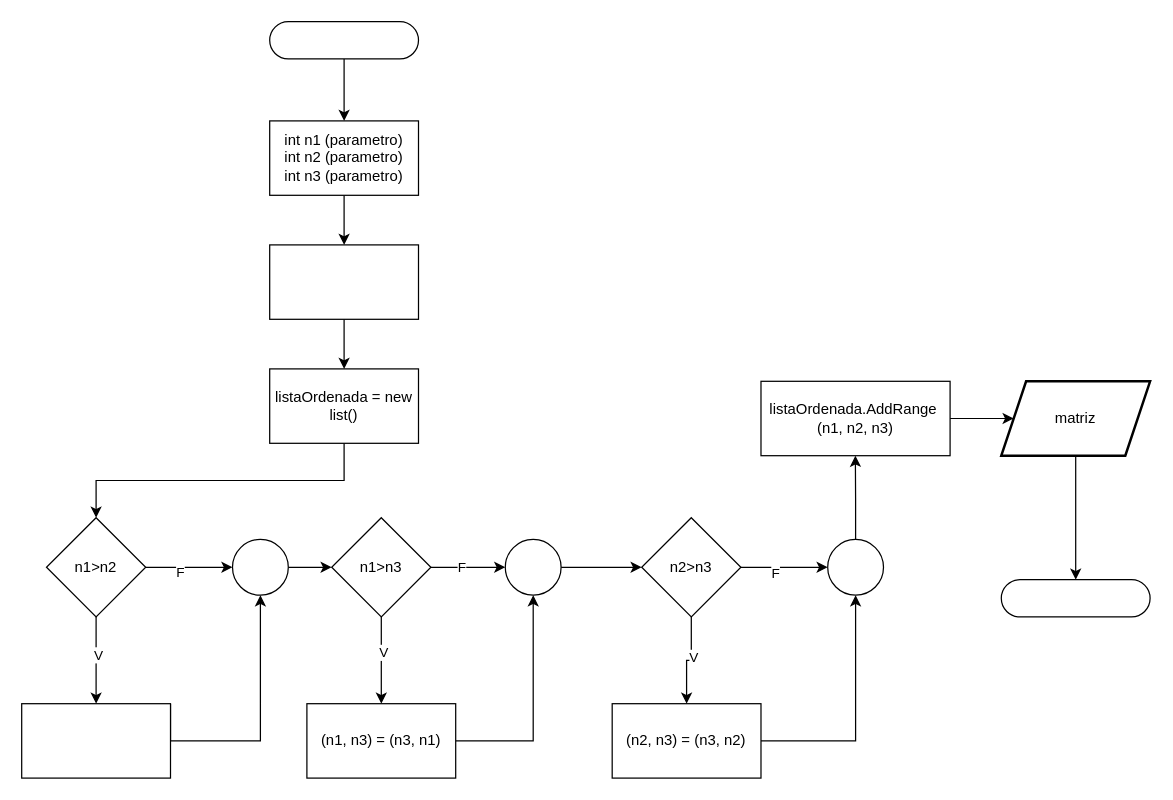
This 1173x800 diagram has some shape labels left out. The centre of each missing label's shape, as x and y in pixels:
"(n1, n2) = (n2, n1)" goes at pixel 95 740.
"FIN" goes at pixel 1075 597.
"INICIO" goes at pixel 343 39.
"List<int> listaordenada" goes at pixel 343 281.
